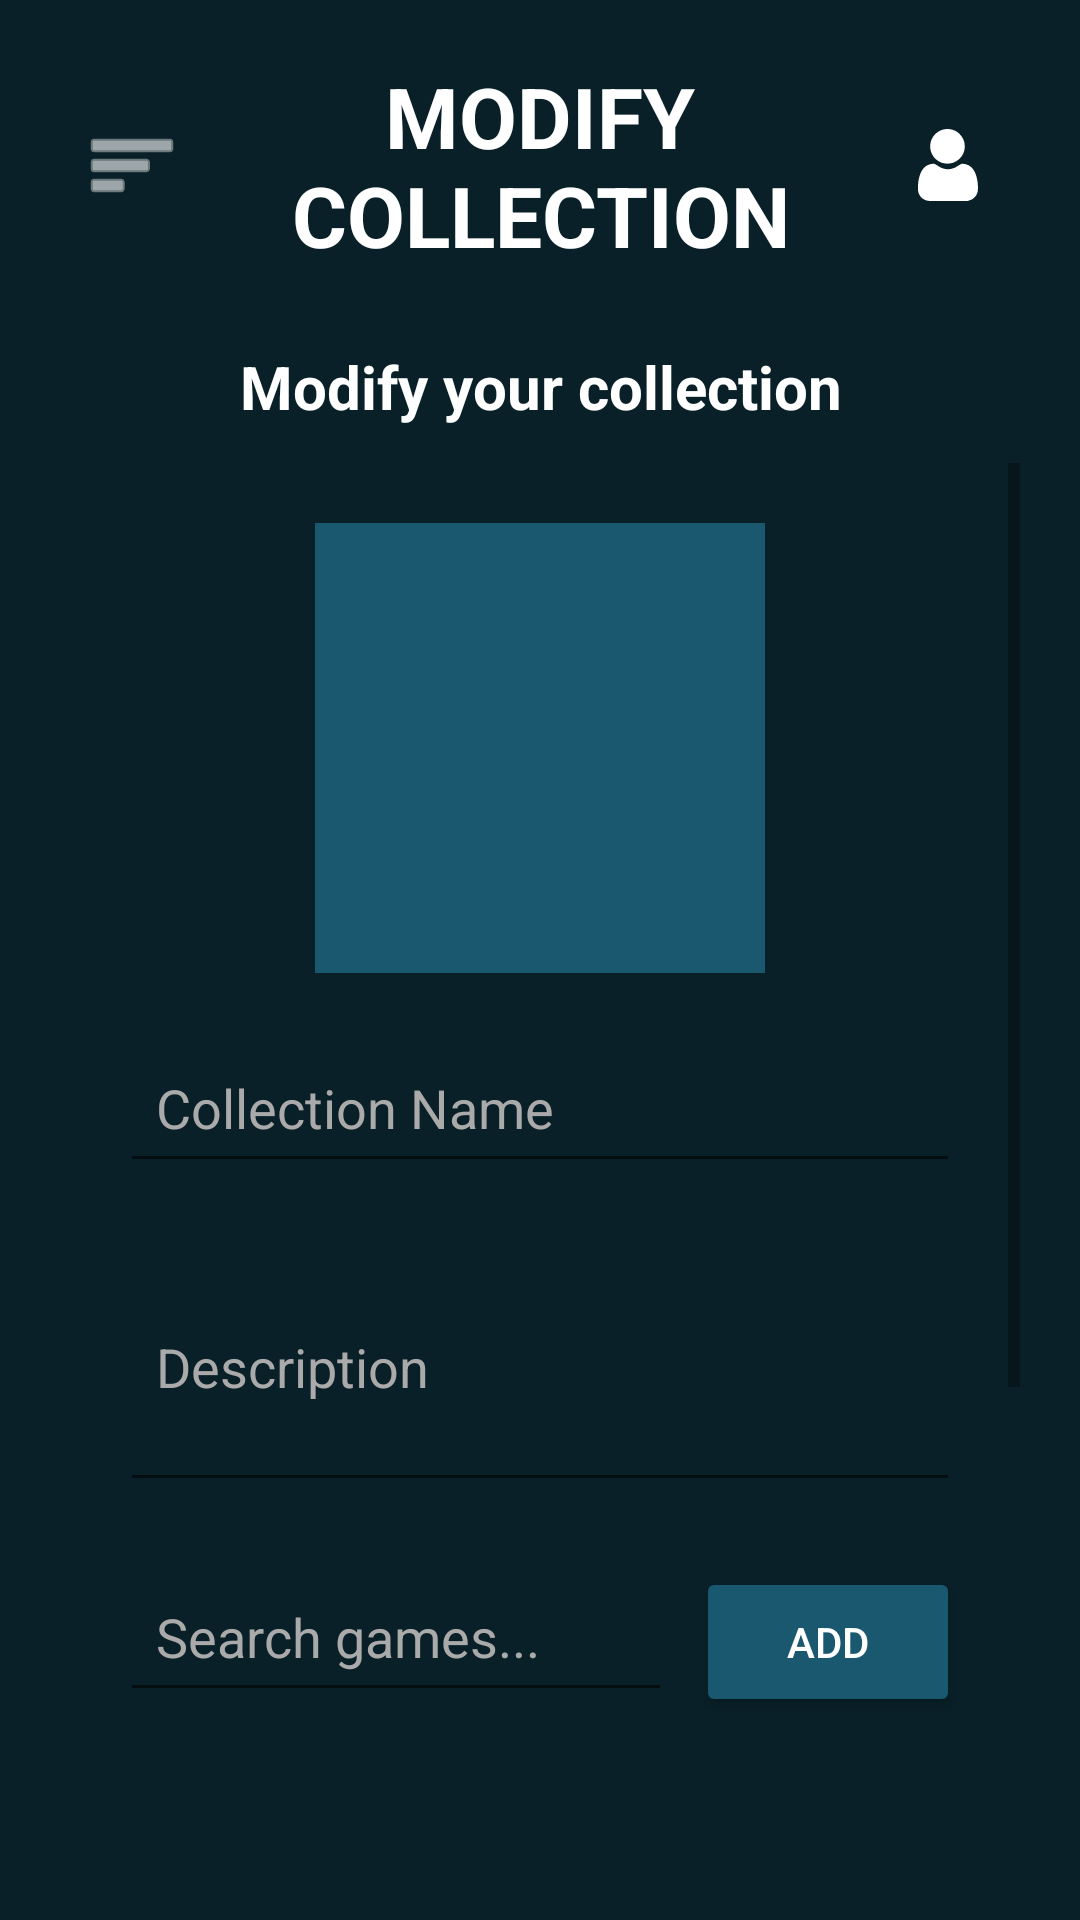

Where to tap for icons on this 1080px×1920px app screen, as (x,y):
Open menu: (132,165)
Open user profile: (948,165)
